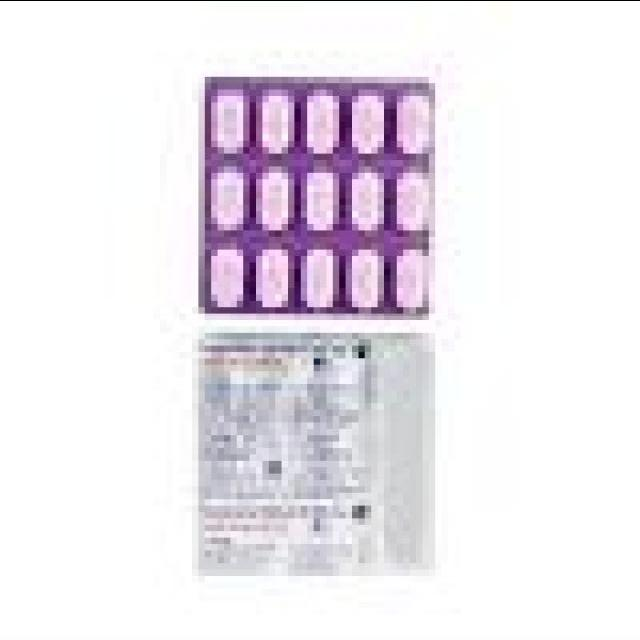authentic: (174, 316, 453, 592), (189, 66, 449, 327)
